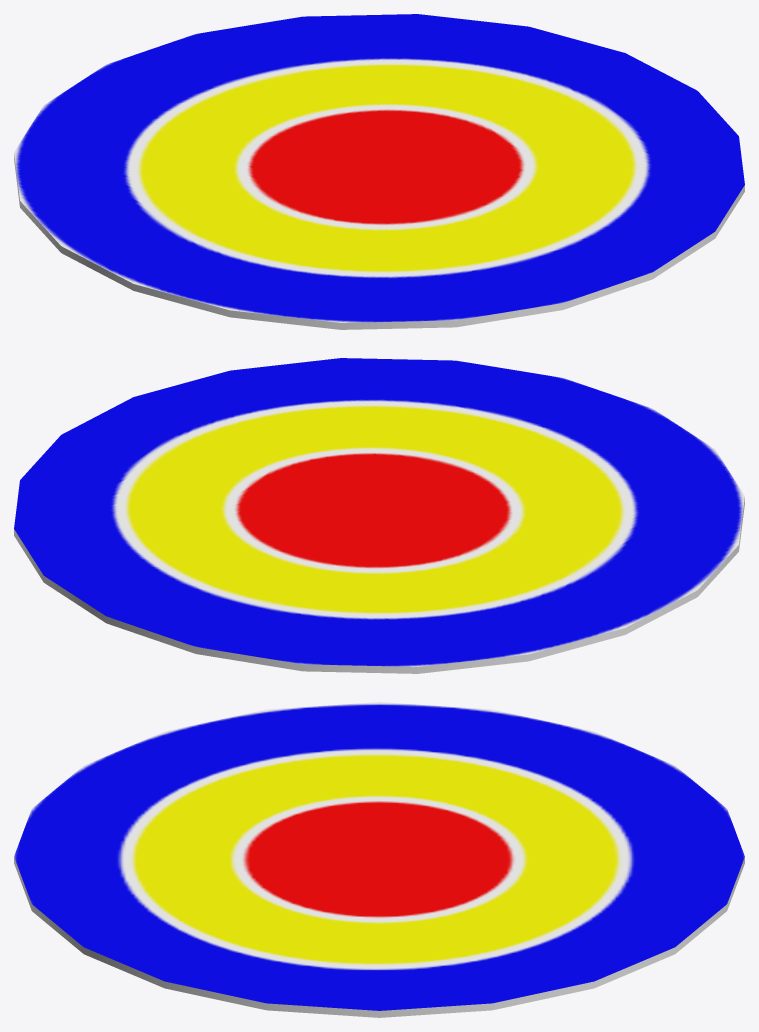
The model's file is target.fbx.
The picture shows the model from 3 angles, top to bottom: view 1: azimuth 30°, elevation 25°; view 2: azimuth 150°, elevation 25°; view 3: azimuth 270°, elevation 25°; orthographic projection.
Parts seen in each view (by area): view 1: pCylinder9; view 2: pCylinder9; view 3: pCylinder9.
Boxes of the visible parts, box(x1,y1,x2,y2) form: pCylinder9: box(14, 14, 744, 329); pCylinder9: box(14, 358, 744, 673); pCylinder9: box(14, 702, 744, 1017).
Bounding box in the file's own units: 53.45 × 0.5625 × 53.45.
